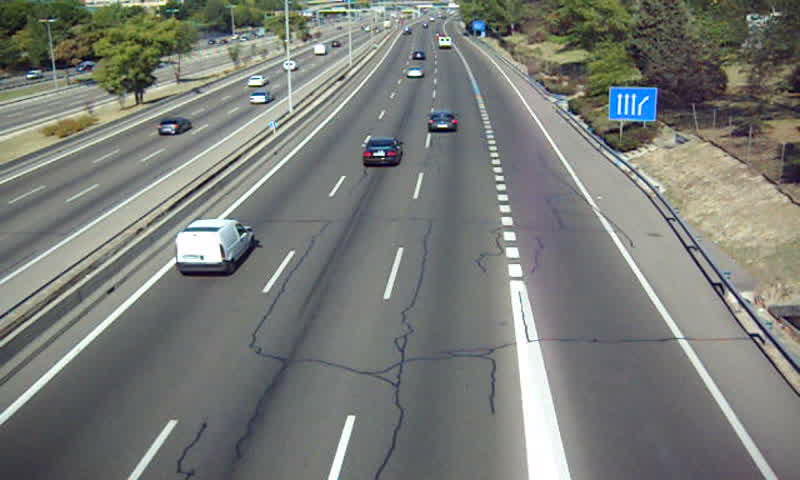car: (361, 137, 402, 167), (426, 112, 460, 134), (405, 65, 424, 79)
van: (175, 220, 253, 274)
